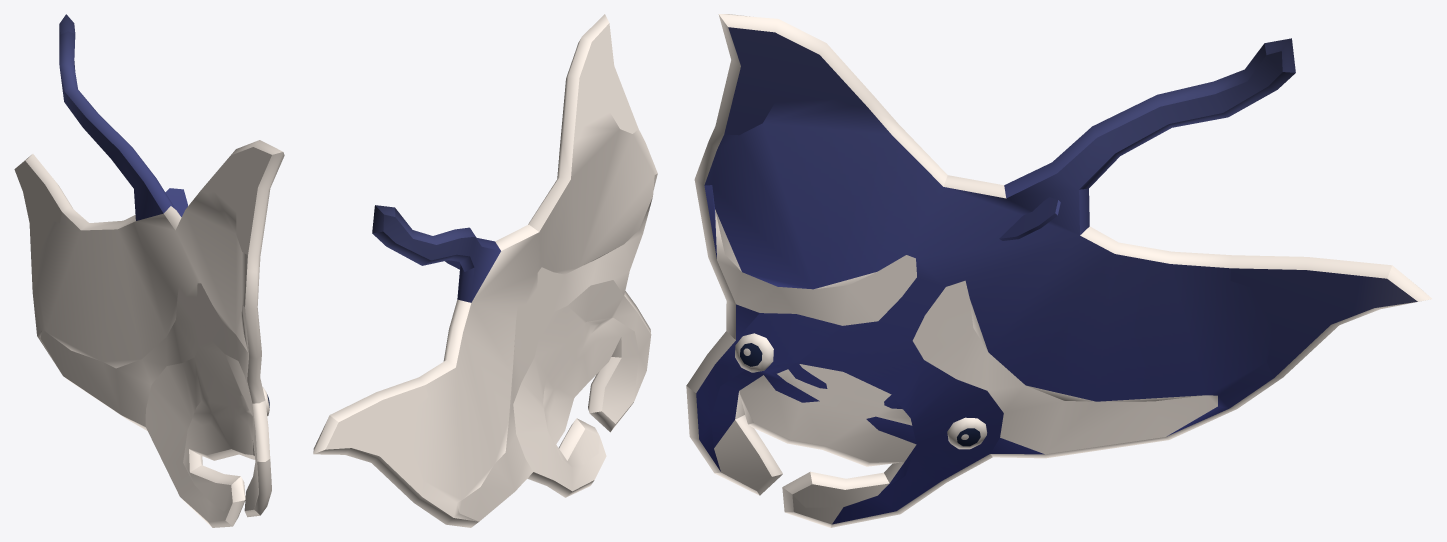
3 views of the same model, side by side, from view 1: azimuth 30°, elevation 25°; view 2: azimuth 150°, elevation 25°; view 3: azimuth 270°, elevation 25° (orthographic). The views are drawn at different scales.
Parts seen in each view (by area): view 1: Fish_GiantMantaRay; view 2: Fish_GiantMantaRay; view 3: Fish_GiantMantaRay.
Boxes of the visible parts, x1,y1,x2,y2 form: Fish_GiantMantaRay: [14, 14, 284, 527]; Fish_GiantMantaRay: [313, 14, 657, 527]; Fish_GiantMantaRay: [686, 14, 1431, 527].
Bounding box in the file's own units: 17.95 × 84.92 × 108.
